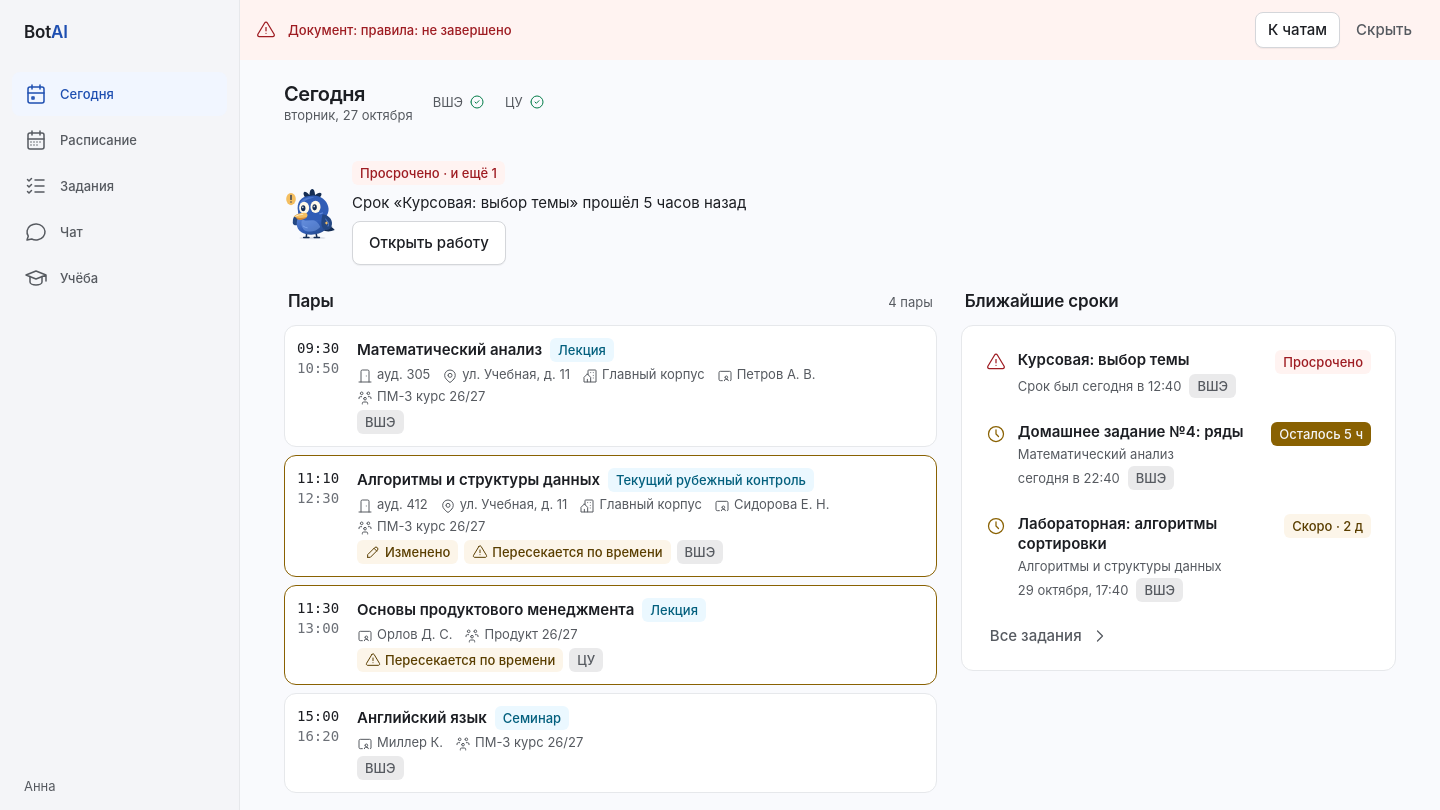
Scenario: плашка работы на других экранах › тред неизвестен вовсе: плашка остаётся и ведёт к списку чатов, а не в «последний тред» наугад
This screenshot has width=1440, height=810.
Click the link "К чатам".
click(1298, 30)  # box left=1255, top=12, right=1340, bottom=48
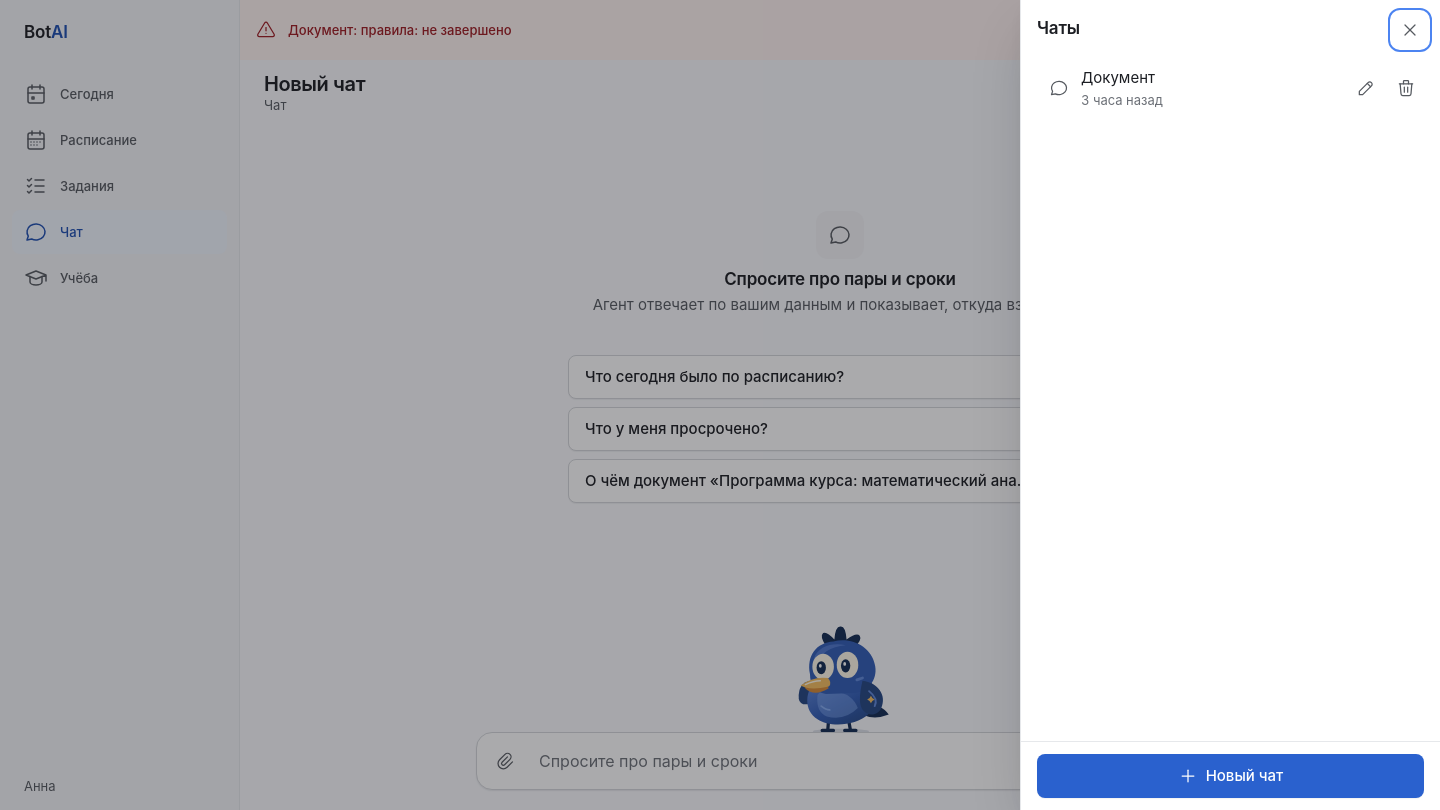
Now the dialog "Чаты" is shown, box left=1020, top=0, right=1439, bottom=809
